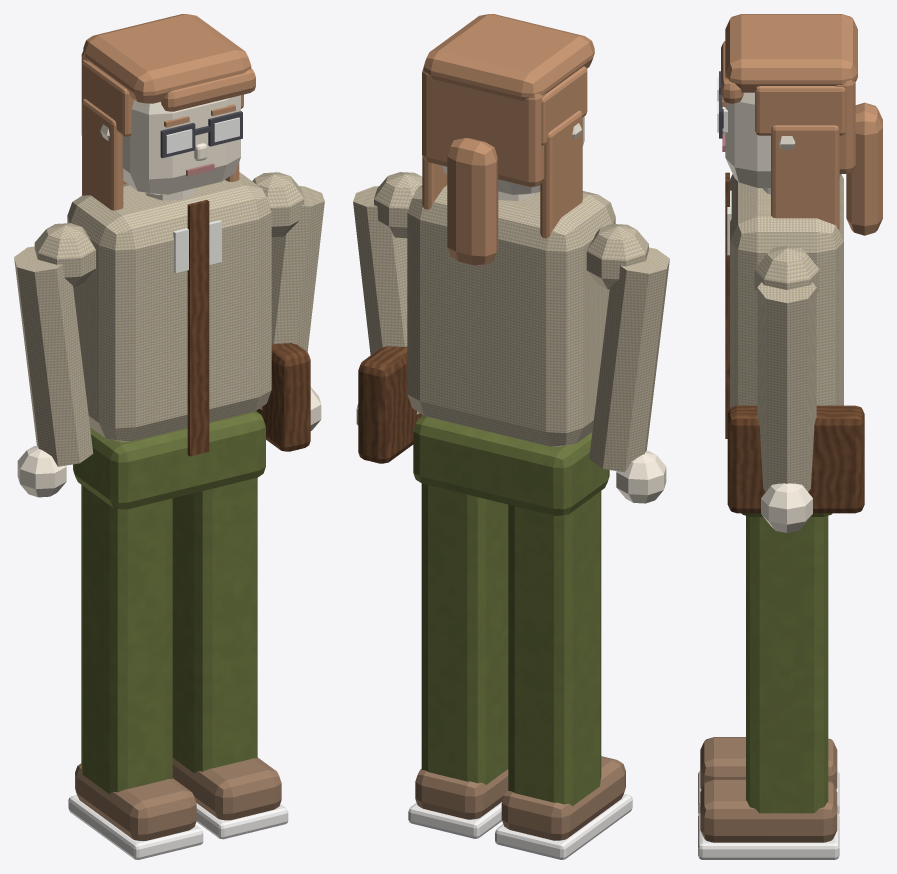
3 renders of one model, left to right at view 1: azimuth 30°, elevation 25°; view 2: azimuth 150°, elevation 25°; view 3: azimuth 270°, elevation 25°, orthographic. The views are drawn at different scales.
Parts seen in each view (by area): view 1: Skin_scholar; view 2: Skin_scholar; view 3: Skin_scholar.
Part boxes in pixels (box(x1,y1,x2,y2)): Skin_scholar: box(14, 14, 324, 859); Skin_scholar: box(353, 14, 669, 859); Skin_scholar: box(698, 14, 882, 859).
Bounding box in the file's own units: 0.79 × 1.9 × 0.405.
4 materials, 4 textured.
